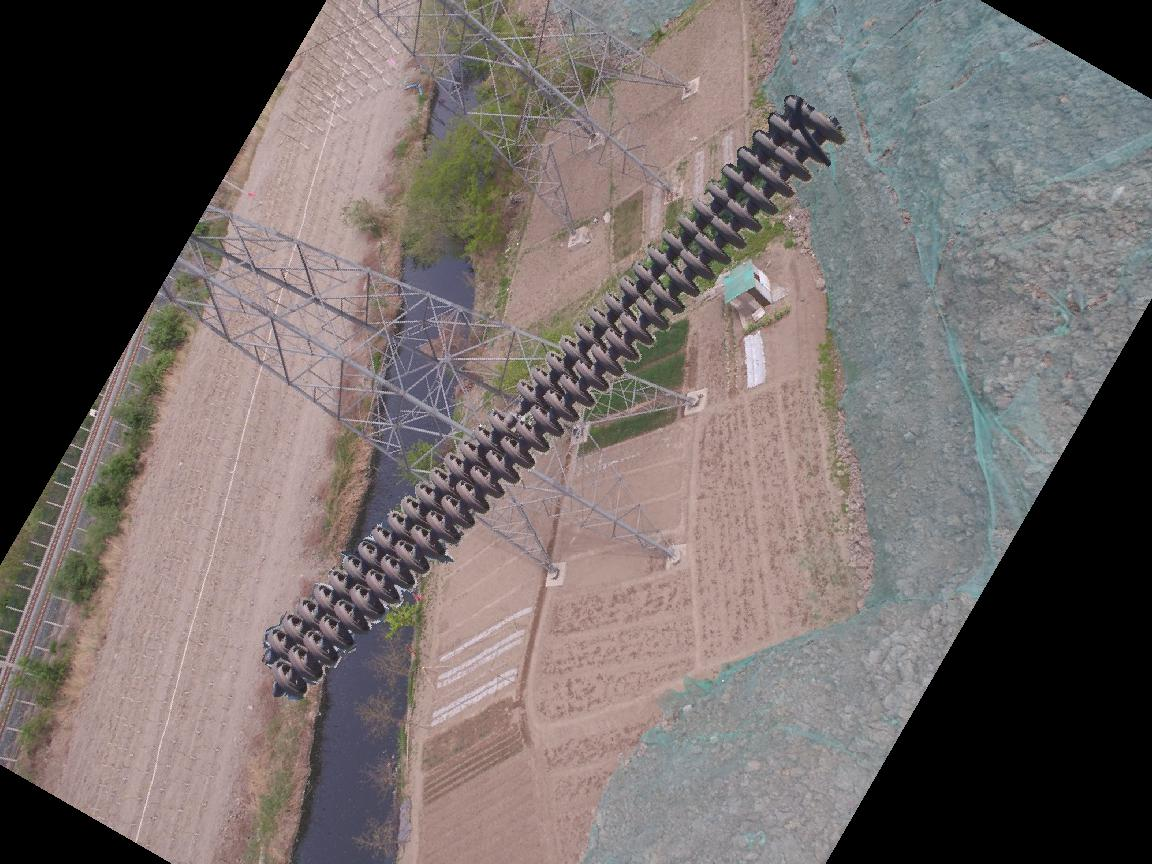insulator: (256, 91, 845, 702)
insulator_stringdrop: (486, 378, 542, 436)
